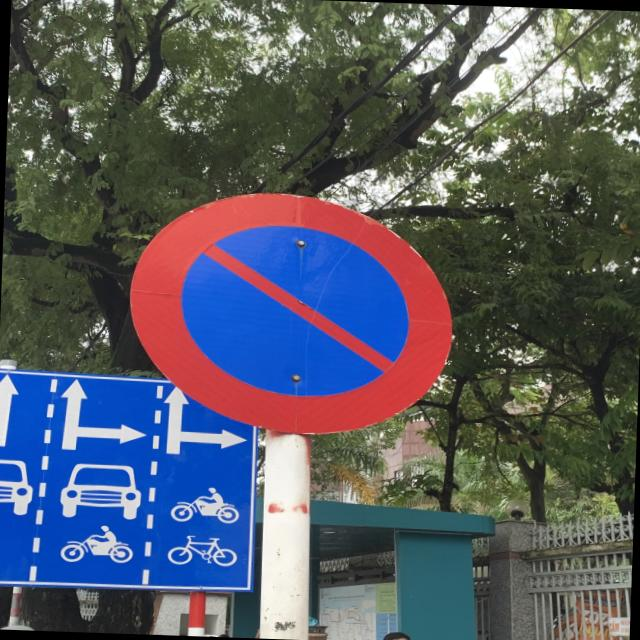Cam_Dau_Xe: (123, 186, 458, 438)
